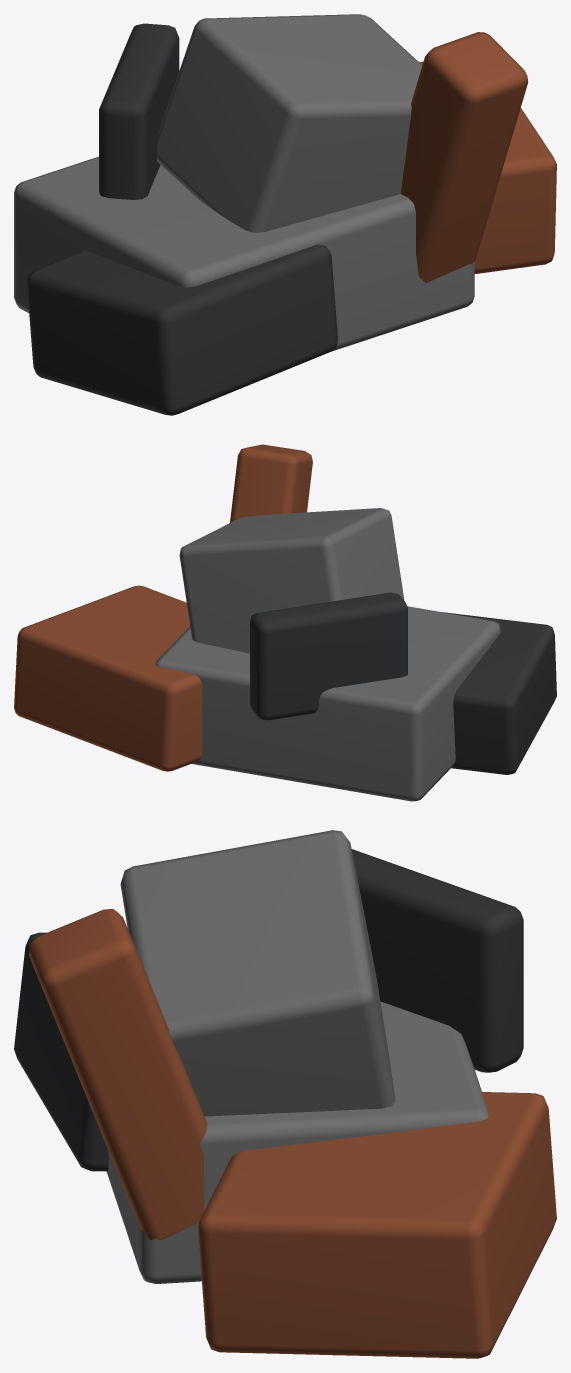
The model's file is debris-heap.glb.
3 views of the same model, one above another, from view 1: azimuth 30°, elevation 25°; view 2: azimuth 150°, elevation 25°; view 3: azimuth 270°, elevation 25° (orthographic). The views are drawn at different scales.
Visible parts, largest first — view 1: debris-heap; view 2: debris-heap; view 3: debris-heap.
Part boxes in pixels (x1,y1,x2,y2): debris-heap: (14, 14, 556, 415); debris-heap: (14, 444, 556, 801); debris-heap: (14, 830, 556, 1358).
Bounding box in the file's own units: 1.54 × 0.7663 × 1.07.
